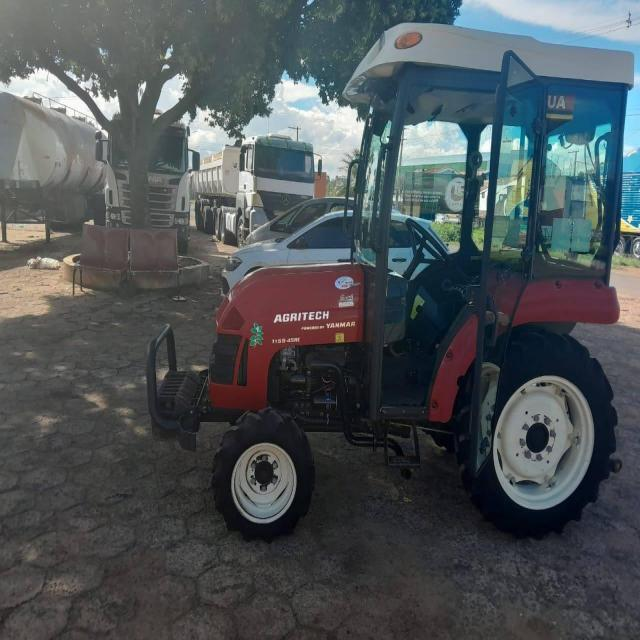Tratores - v5 YOLO V8L 2024-11-13: (146, 19, 638, 534)
